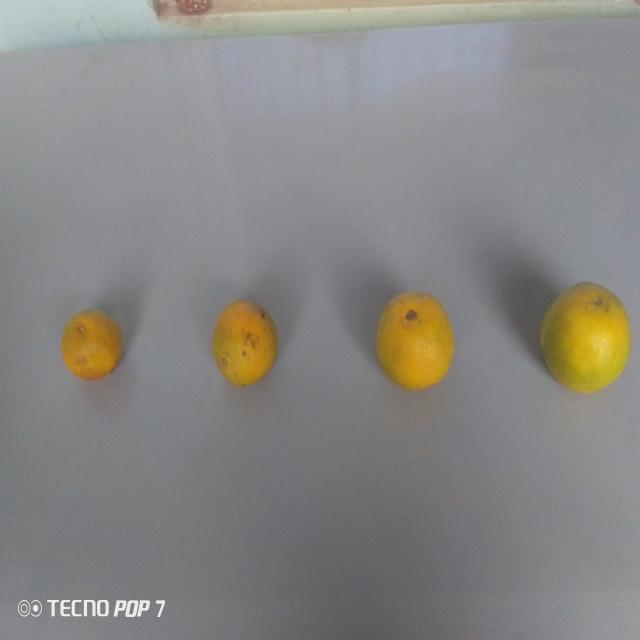Ripe orange: (536, 274, 636, 402), (372, 281, 460, 397), (211, 294, 281, 395), (59, 303, 128, 396)
